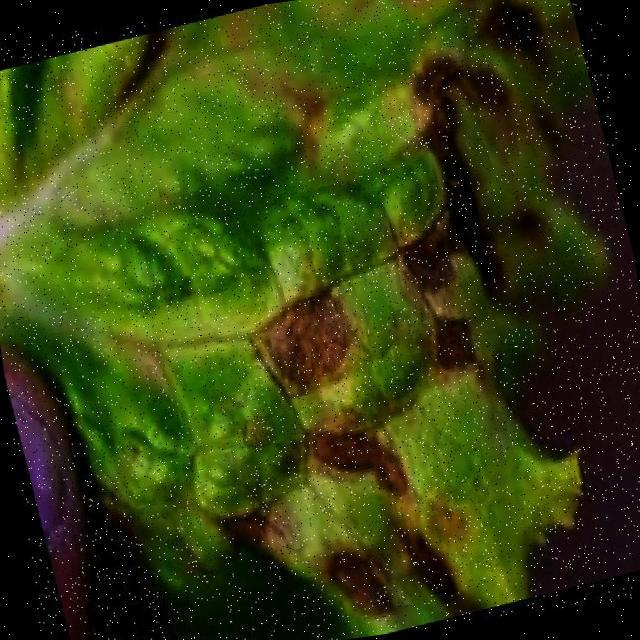Septoria_Blight: (186, 191, 573, 628)
